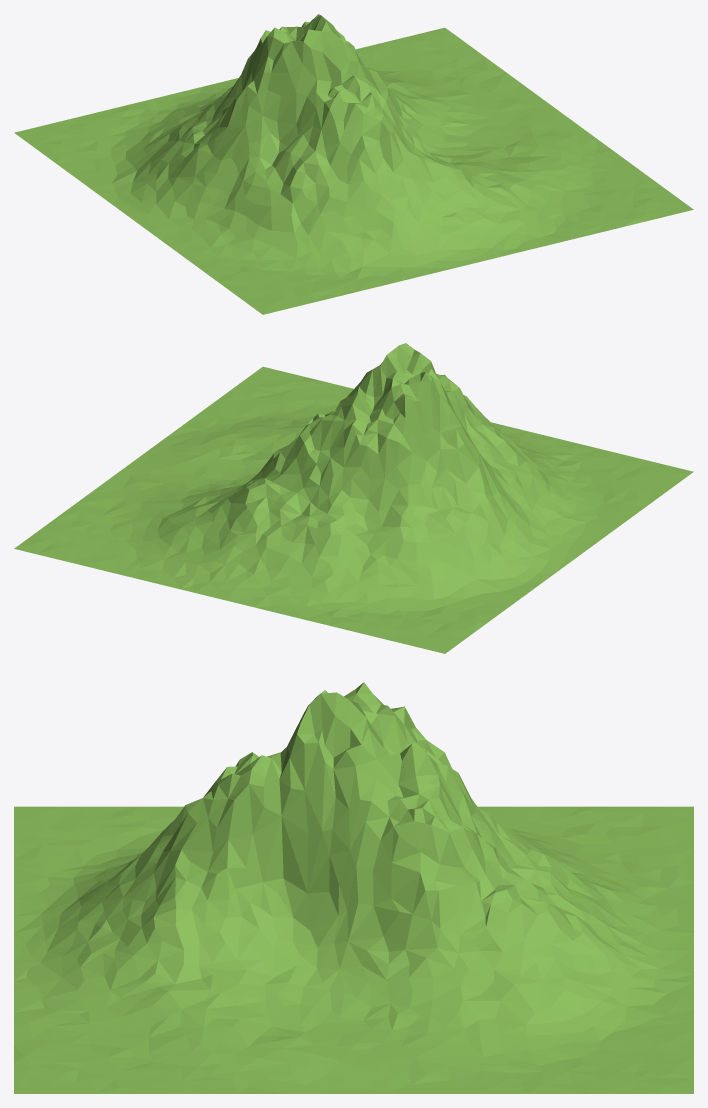
File: MT_Terrain_L_a_46_LOD.fbx
3 renders of one model, top to bottom at view 1: azimuth 30°, elevation 25°; view 2: azimuth 150°, elevation 25°; view 3: azimuth 270°, elevation 25°, orthographic. The views are drawn at different scales.
Visible parts, largest first — view 1: MT_Terrain_L_a_46_LOD0; view 2: MT_Terrain_L_a_46_LOD0; view 3: MT_Terrain_L_a_46_LOD0.
Part boxes in pixels (box(x1,y1,x2,y2)): MT_Terrain_L_a_46_LOD0: box(14, 14, 693, 314); MT_Terrain_L_a_46_LOD0: box(14, 343, 693, 653); MT_Terrain_L_a_46_LOD0: box(14, 682, 693, 1093).
Size of what is drawn, in the model's own units: 10001 by 3774 by 10001.
